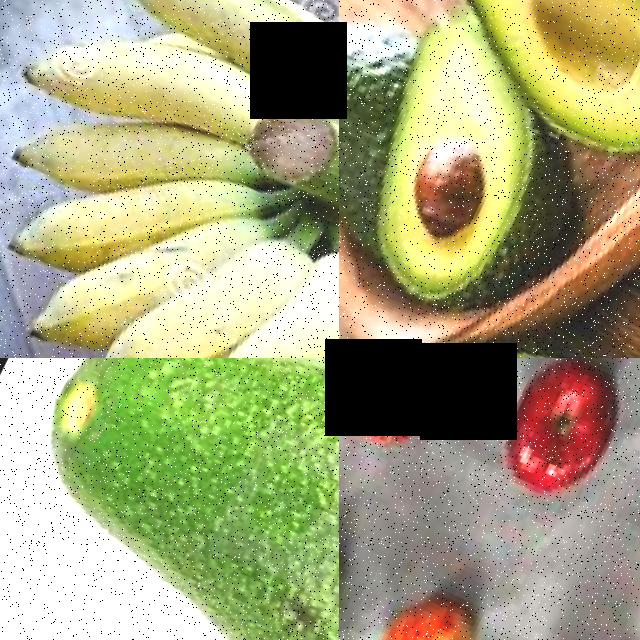apple: (479, 358, 640, 520), (339, 358, 494, 472), (339, 577, 506, 640)
avocado: (0, 358, 339, 640), (339, 66, 612, 358), (367, 0, 640, 197), (339, 0, 465, 276), (339, 263, 640, 358)
banana: (0, 0, 339, 358)
